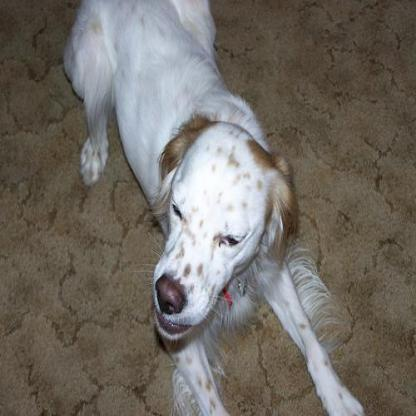English_setter: (60, 0, 367, 414)
